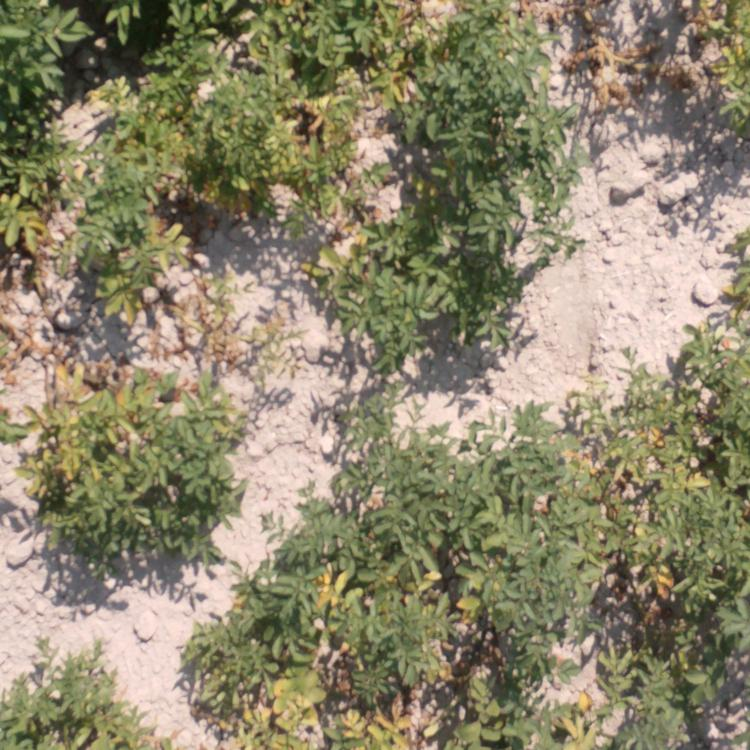healthy: (433, 3, 549, 324), (306, 410, 513, 555), (654, 238, 749, 406), (1, 3, 191, 73)
stressed: (192, 567, 747, 750), (1, 83, 200, 321), (207, 1, 421, 189), (40, 381, 230, 576), (529, 414, 750, 566), (300, 196, 403, 333), (9, 650, 144, 750), (683, 3, 743, 132), (570, 32, 620, 116)
